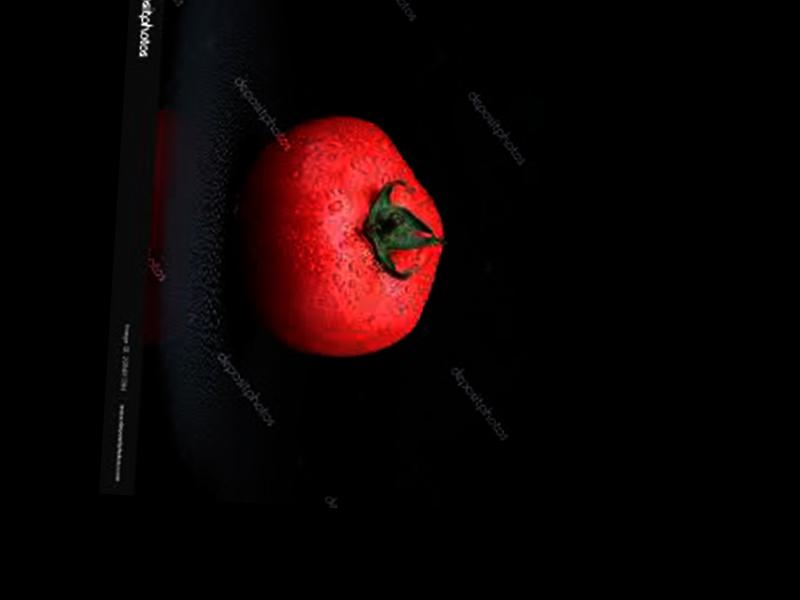Tomato: (228, 108, 454, 365)
